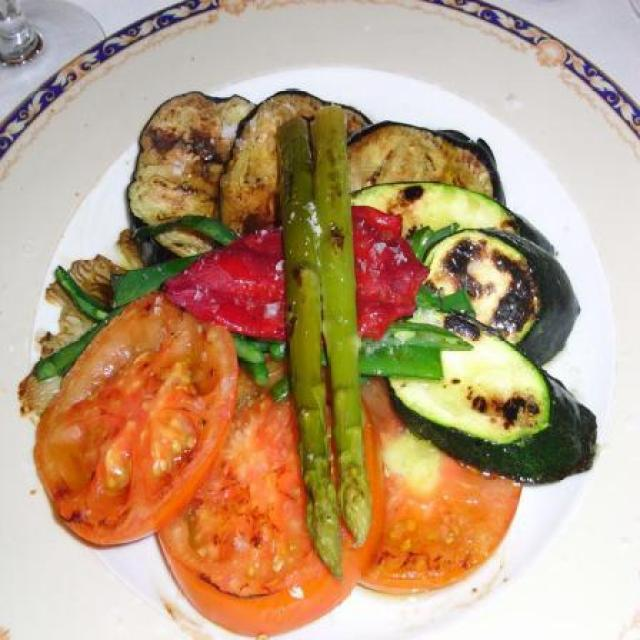Zucchini: (379, 302, 602, 492), (418, 232, 580, 372), (346, 178, 562, 262)
